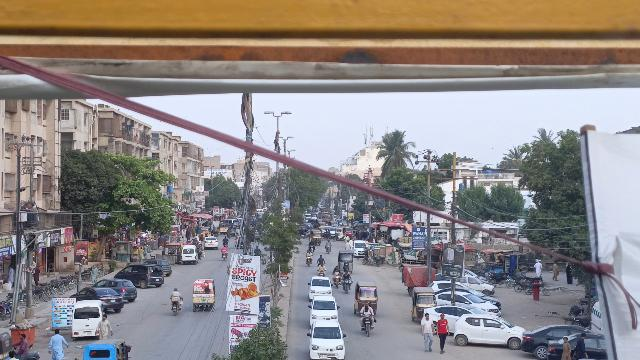Bike: (360, 314, 374, 339), (341, 277, 352, 294), (170, 301, 182, 316), (333, 274, 341, 288)
Car: (454, 312, 523, 349), (521, 320, 579, 357), (69, 284, 124, 314), (433, 291, 501, 315), (306, 321, 347, 360), (94, 276, 138, 304), (116, 263, 162, 287), (309, 296, 340, 325), (307, 275, 333, 296)
Person: (418, 311, 436, 353), (47, 327, 69, 360), (435, 312, 450, 355), (95, 314, 112, 344), (14, 333, 30, 360), (576, 329, 588, 360), (558, 336, 573, 360), (358, 301, 376, 318), (169, 287, 183, 299), (332, 264, 342, 277), (342, 270, 351, 280)
Rickshaw: (83, 339, 130, 360), (191, 279, 218, 312), (353, 280, 379, 314), (410, 285, 434, 319), (336, 249, 354, 273)
Van: (72, 300, 103, 339), (180, 244, 199, 266)
